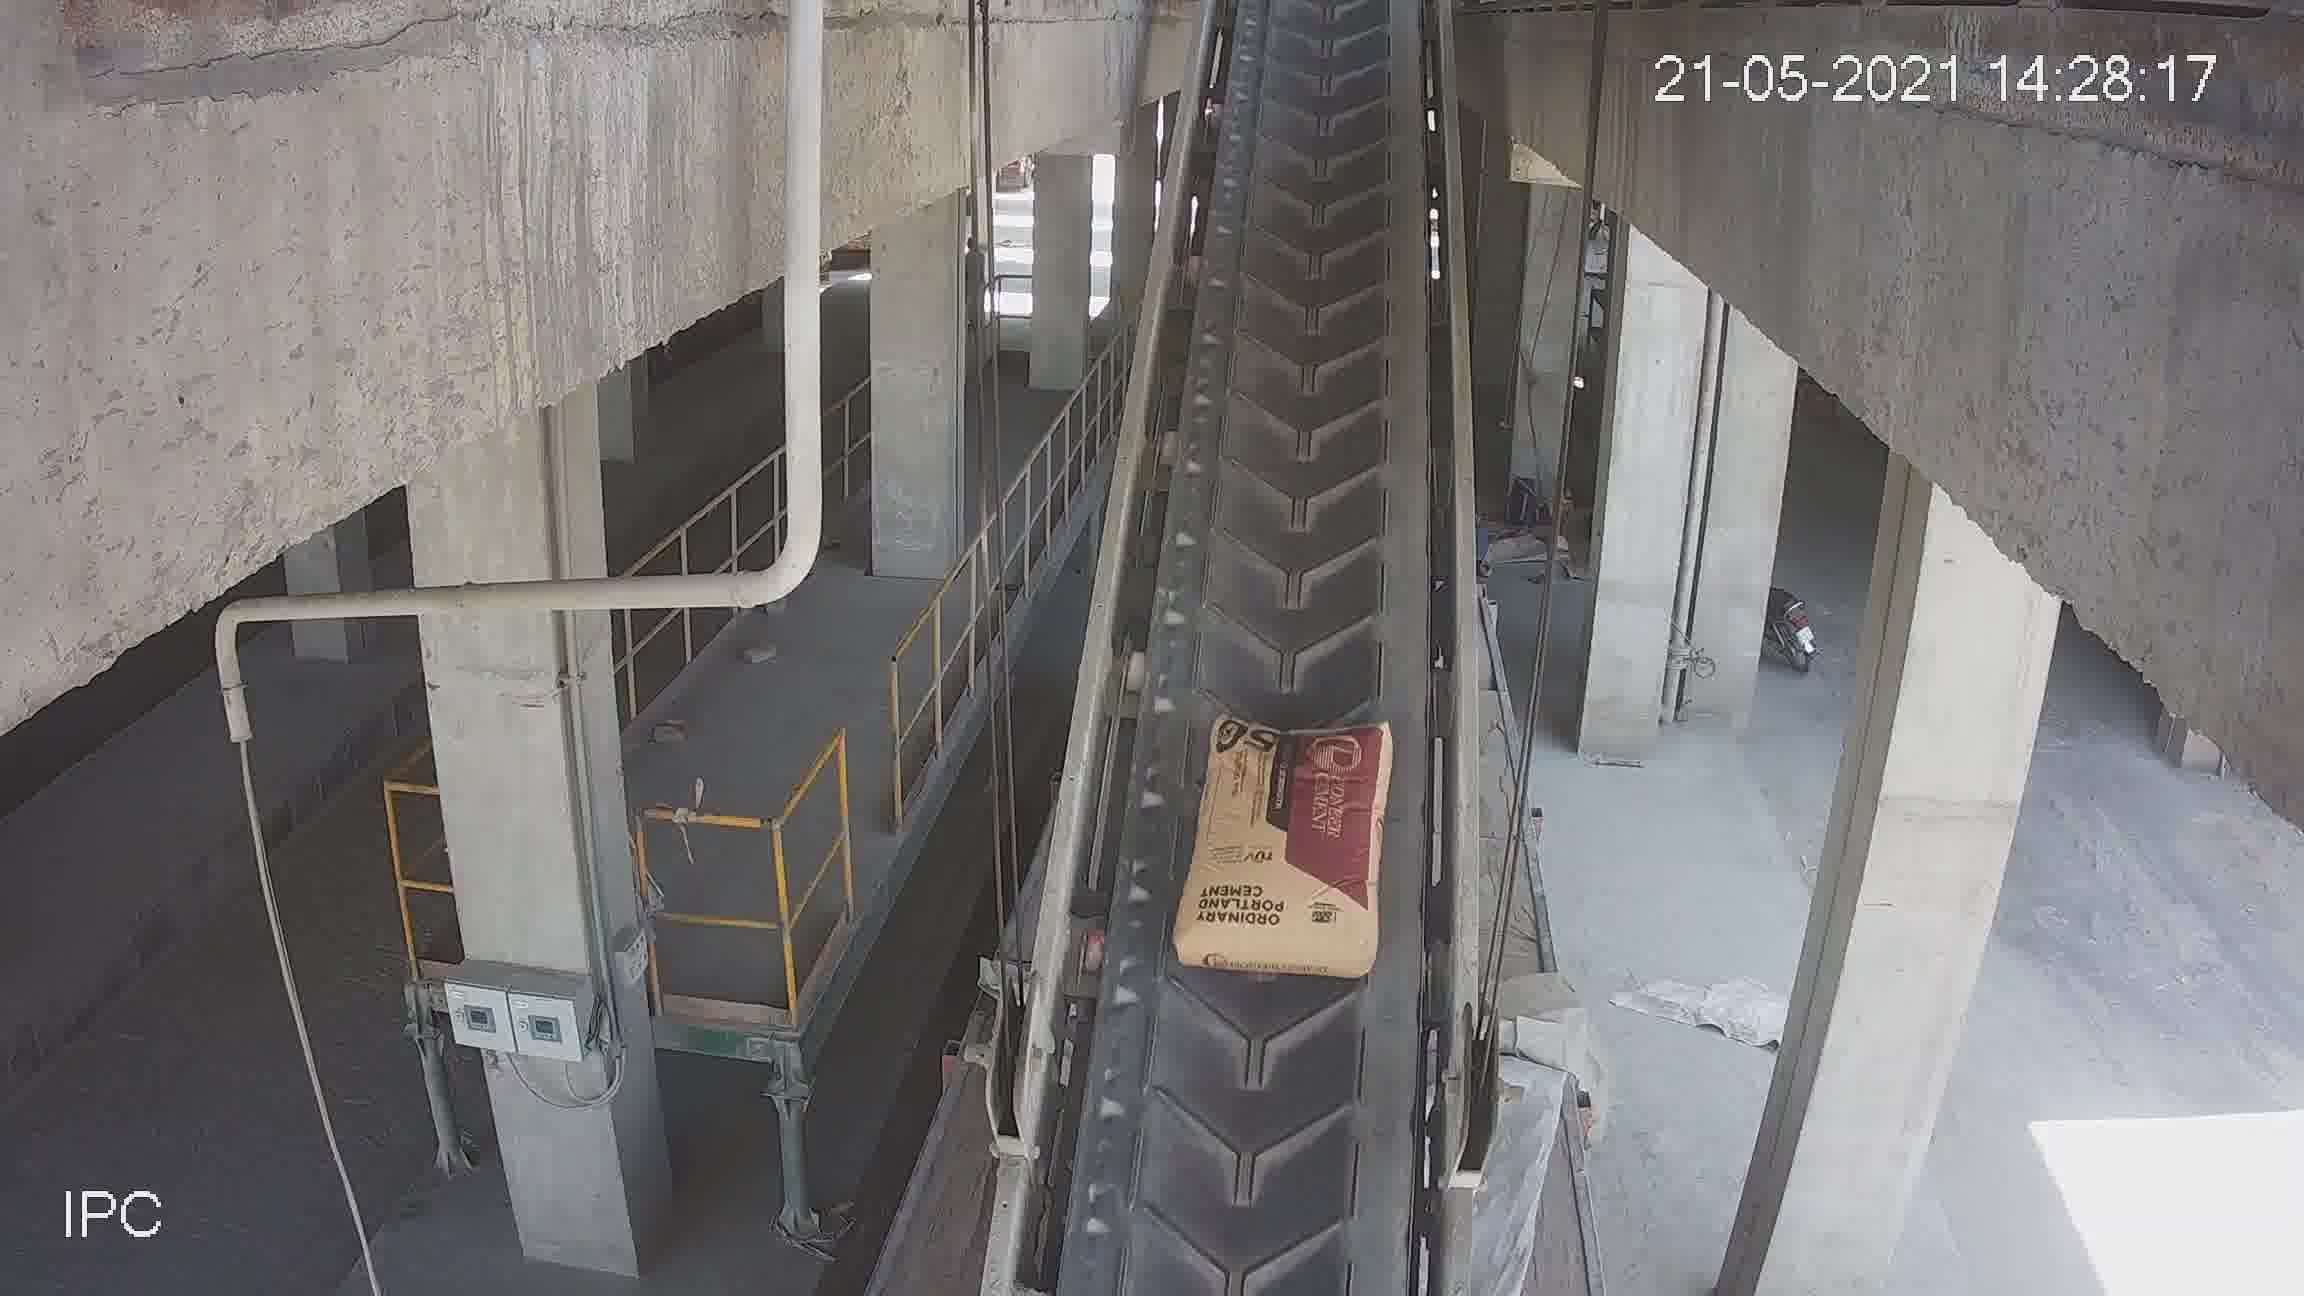bag: (1176, 722, 1391, 968)
belt: (1036, 33, 1476, 1263)
